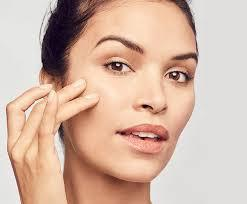face: (62, 1, 198, 182)
